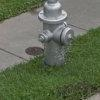Hydrant: (32, 0, 77, 74)
